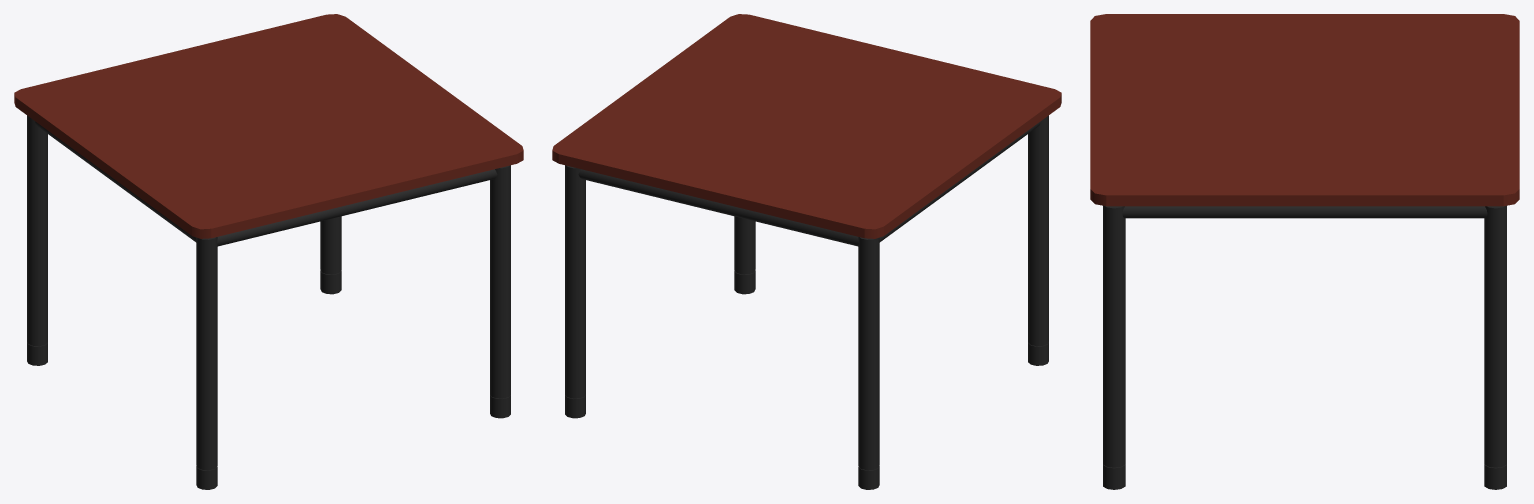
The model's file is Table1.FBX.
3 views of the same model, side by side, from view 1: azimuth 30°, elevation 25°; view 2: azimuth 150°, elevation 25°; view 3: azimuth 270°, elevation 25° (orthographic). The views are drawn at different scales.
Parts seen in each view (by area): view 1: table-furn; view 2: table-furn; view 3: table-furn.
Boxes of the visible parts, x1,y1,x2,y2 form: table-furn: [14, 14, 523, 489]; table-furn: [552, 14, 1061, 489]; table-furn: [1090, 14, 1519, 489].
Bounding box in the file's own units: 6.86 × 5.28 × 6.86.
